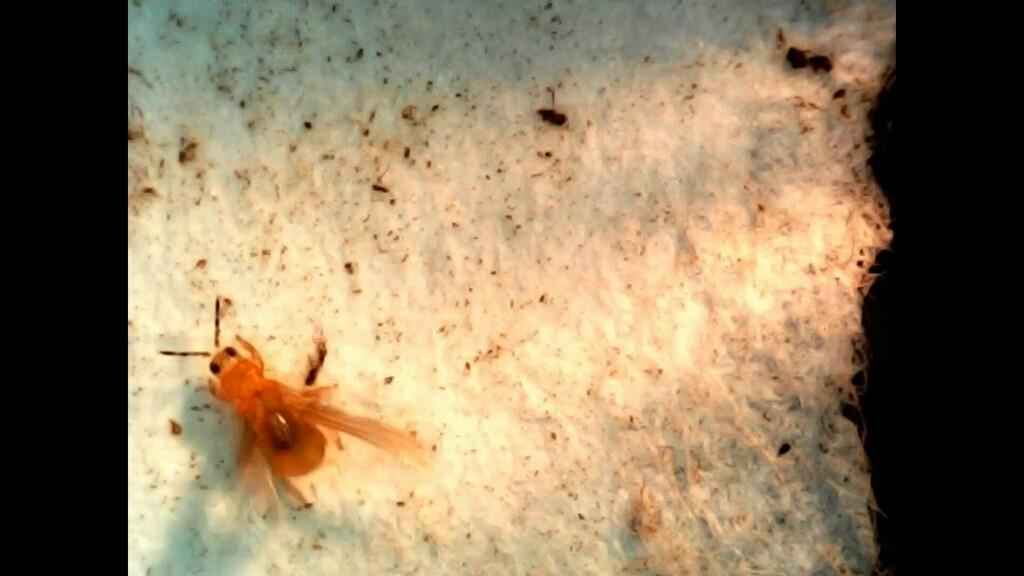tiny_pests: (147, 290, 402, 517)
